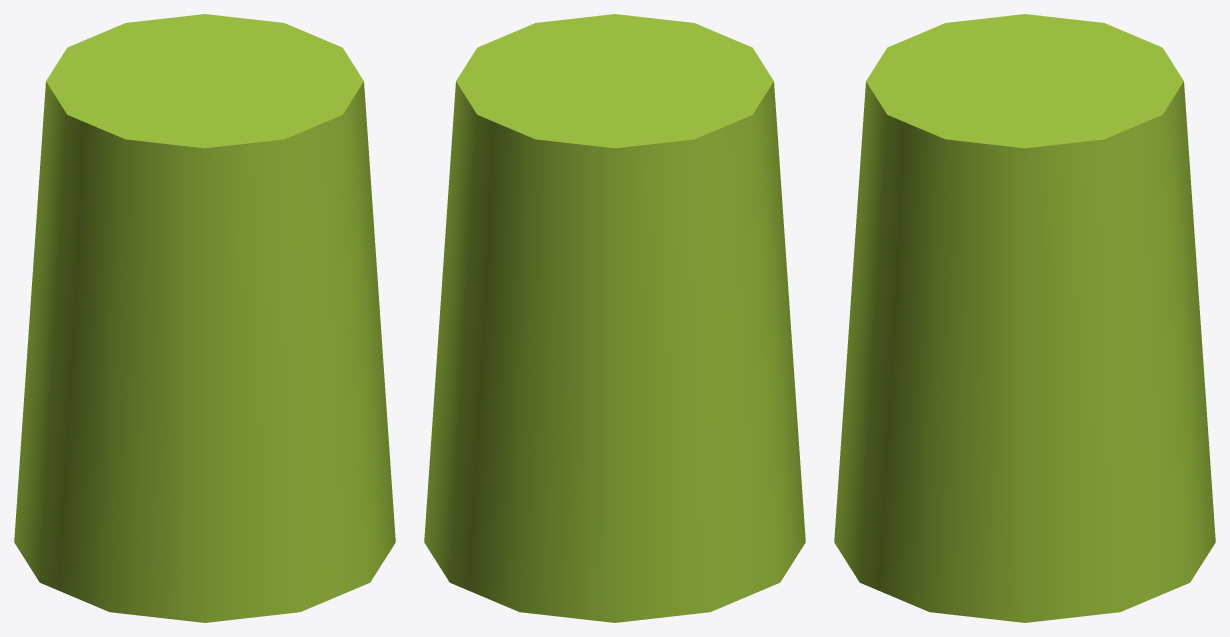
The model's file is evacuation_route.glb.
3 renders of one model, left to right at view 1: azimuth 30°, elevation 25°; view 2: azimuth 150°, elevation 25°; view 3: azimuth 270°, elevation 25°, orthographic.
Parts seen in each view (by area): view 1: evacuation_route-node; view 2: evacuation_route-node; view 3: evacuation_route-node.
Boxes of the visible parts, left/top/right/bottom form: evacuation_route-node: left=14, top=14, right=395, bottom=622; evacuation_route-node: left=424, top=14, right=805, bottom=622; evacuation_route-node: left=834, top=14, right=1215, bottom=622.
Size of the model in its own units: 0.6 by 0.8 by 0.6.
